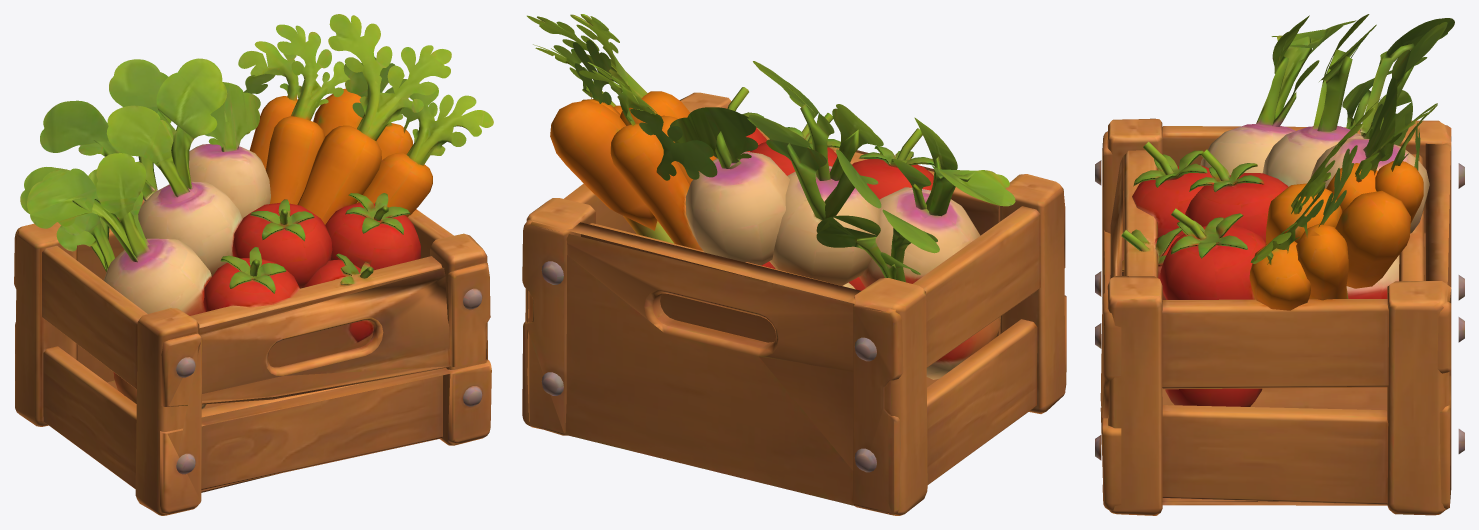
The model's file is crate.glb.
3 renders of one model, left to right at view 1: azimuth 30°, elevation 25°; view 2: azimuth 150°, elevation 25°; view 3: azimuth 270°, elevation 25°, orthographic. The views are drawn at different scales.
Visible parts, largest first — view 1: tripo_node_957ba9a6-3983-43cb-a232-a759c55743f9; view 2: tripo_node_957ba9a6-3983-43cb-a232-a759c55743f9; view 3: tripo_node_957ba9a6-3983-43cb-a232-a759c55743f9.
Boxes of the visible parts, <box> form: tripo_node_957ba9a6-3983-43cb-a232-a759c55743f9: <box>14,14,493,515</box>; tripo_node_957ba9a6-3983-43cb-a232-a759c55743f9: <box>522,14,1066,515</box>; tripo_node_957ba9a6-3983-43cb-a232-a759c55743f9: <box>1095,14,1464,515</box>.
Size of the model in its own units: 0.9995 by 0.772 by 0.6372.
1 material, 1 textured.
